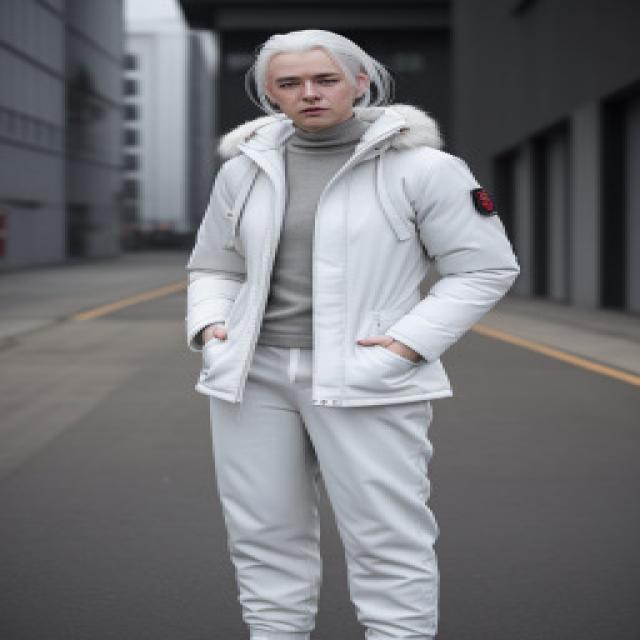Ai human 2: (162, 20, 558, 640)
